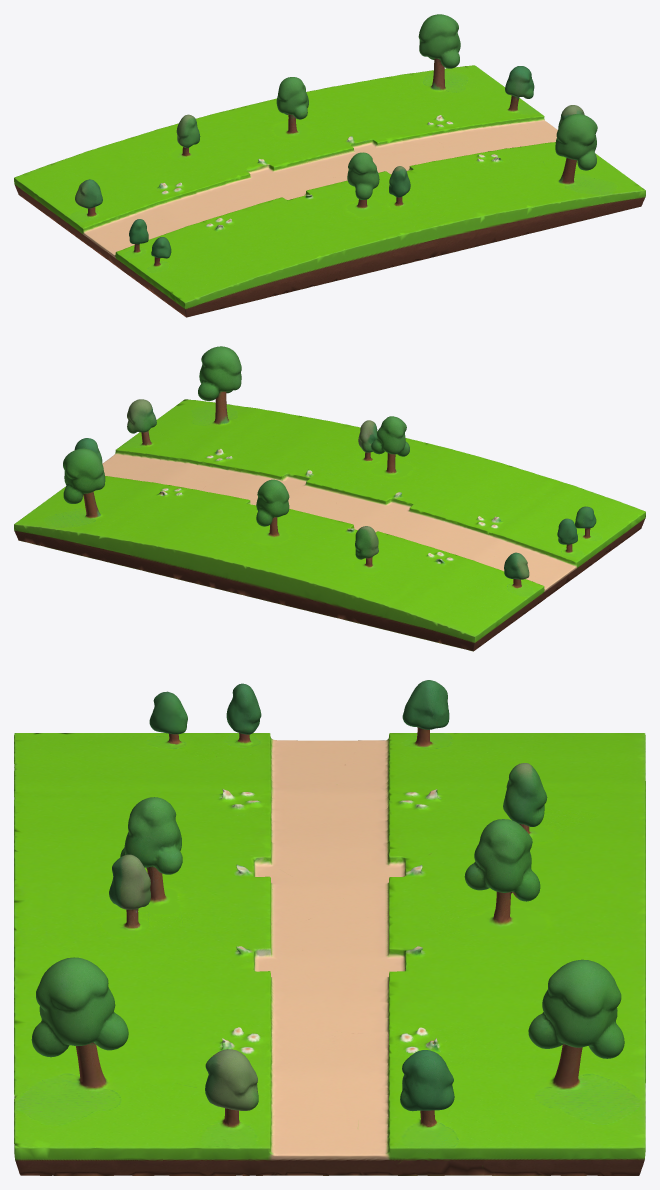
The model's file is PlainPath-Region3.glb.
3 views of the same model, one above another, from view 1: azimuth 30°, elevation 25°; view 2: azimuth 150°, elevation 25°; view 3: azimuth 270°, elevation 25° (orthographic). The views are drawn at different scales.
Bounding box in the file's own units: 1.9 × 0.3622 × 1.22.
Materials: 1 (1 with a texture image).
